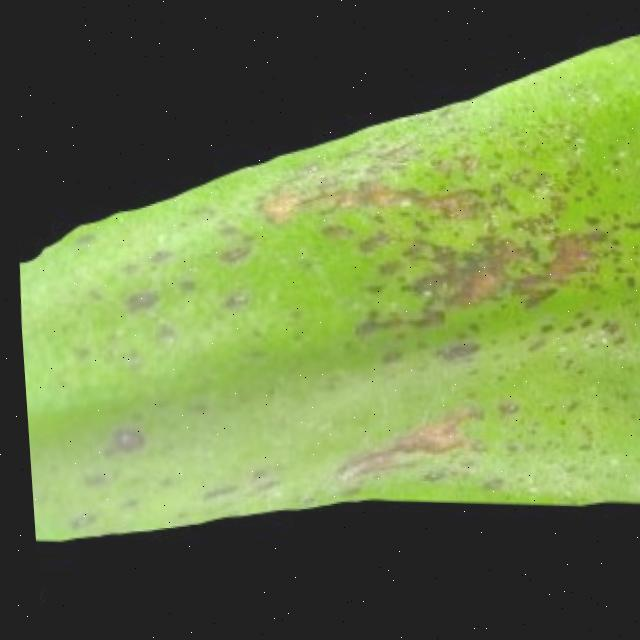mite: (91, 421, 142, 462), (431, 340, 475, 366), (116, 289, 156, 315), (104, 428, 137, 456), (113, 345, 138, 373), (214, 292, 245, 313), (146, 323, 171, 347)
spots: (11, 0, 640, 566)
